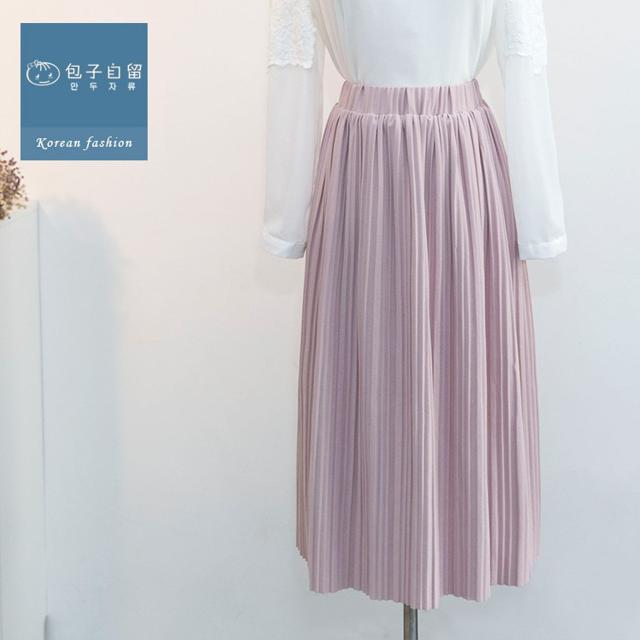Skirts: (296, 79, 537, 605)
